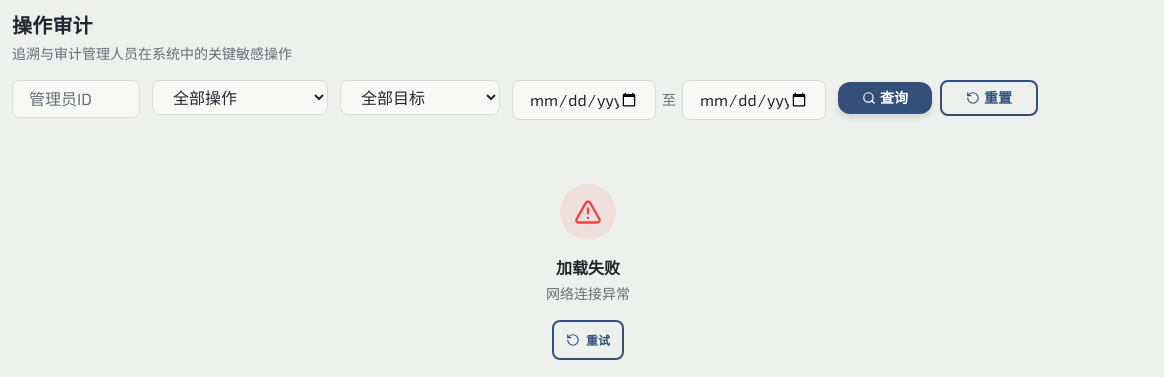
Scenario: AdminAuditPanel › renders ErrorState with retry button on initial load failure and recovers on retry
Expected: the text "网络连接异常" is shown, [546,284,630,304]
Click the button "重试". click: (588, 340)
box: [552,320,624,360]
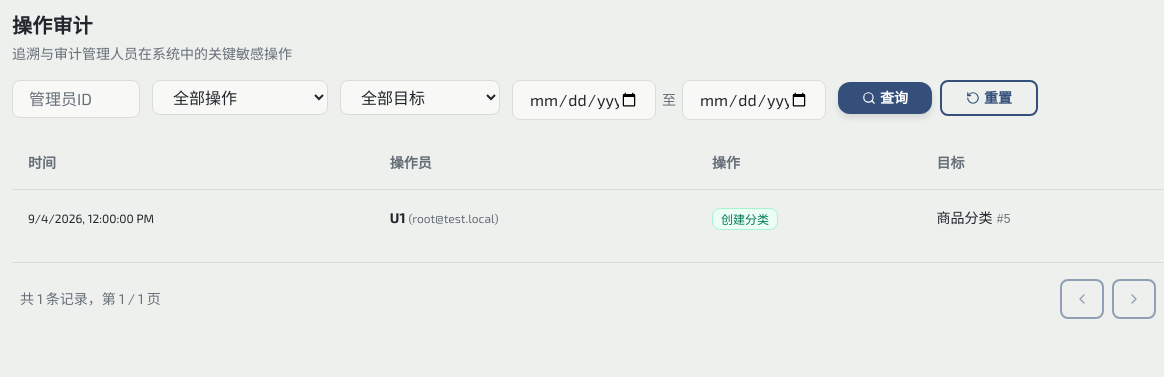
Result: the text "创建分类" is shown at [712,208,778,230]
Result: the text "网络连接异常" is gone
